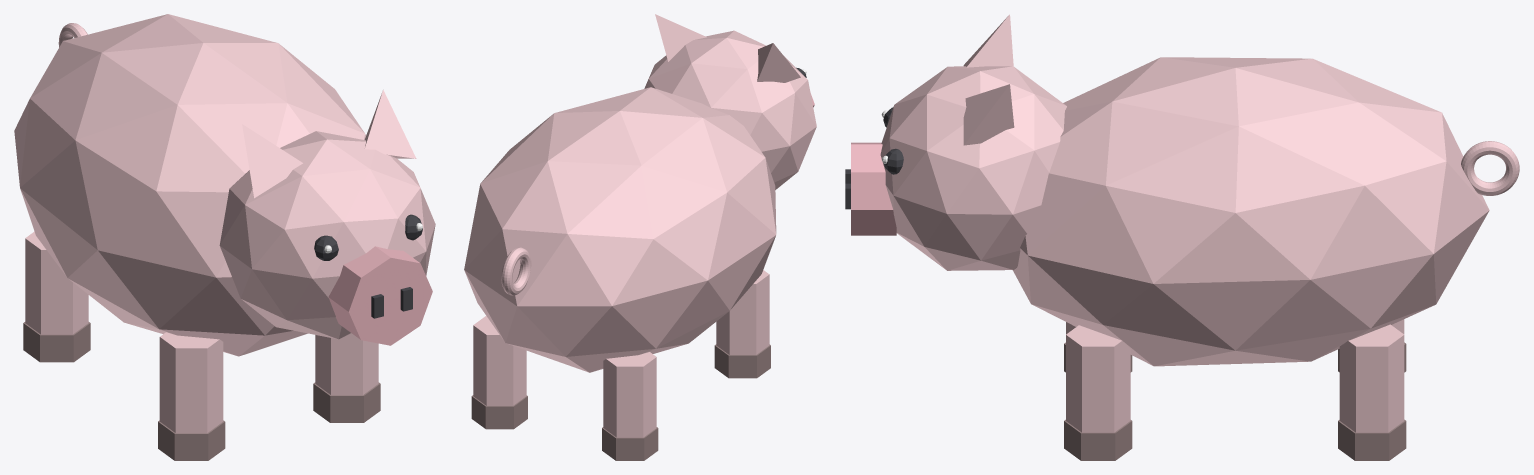
The model's file is Pig.fbx.
3 views of the same model, side by side, from view 1: azimuth 30°, elevation 25°; view 2: azimuth 150°, elevation 25°; view 3: azimuth 270°, elevation 25° (orthographic). The views are drawn at different scales.
Parts seen in each view (by area): view 1: Pig; view 2: Pig; view 3: Pig.
Boxes of the visible parts, box(x1,y1,x2,y2) form: Pig: box(14, 14, 435, 460); Pig: box(464, 14, 816, 460); Pig: box(845, 14, 1519, 460).
Bounding box in the file's own units: 0.8909 × 1.05 × 1.77.
